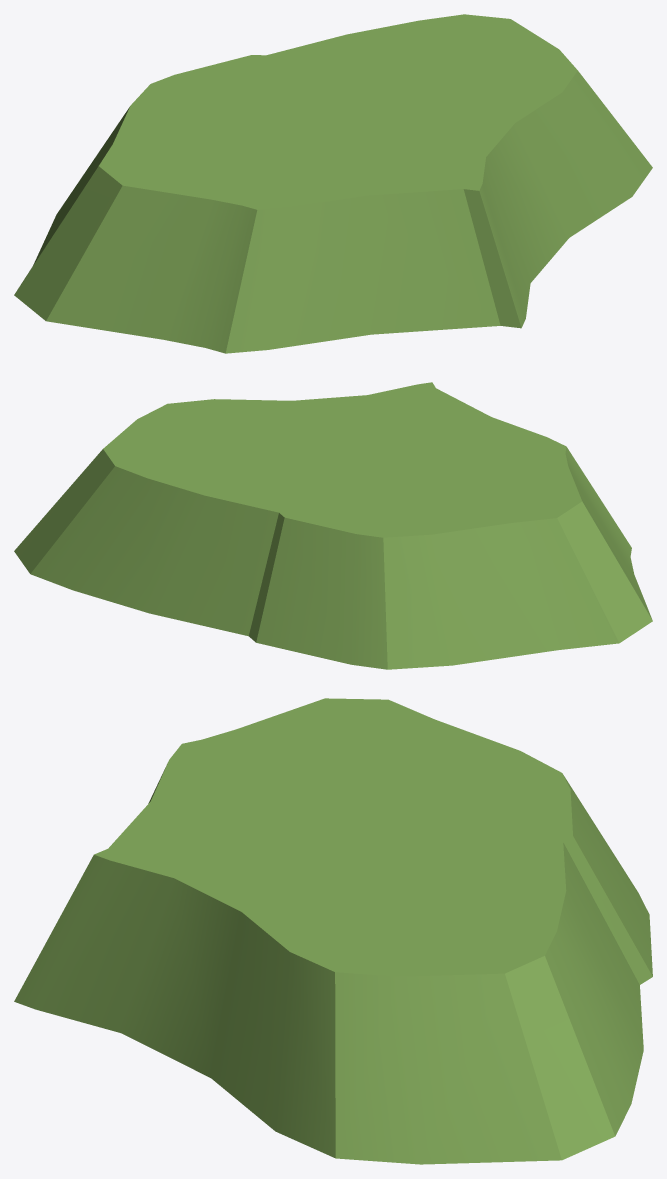
The model's file is Terrain_Mound_Grass_01.fbx.
3 views of the same model, one above another, from view 1: azimuth 30°, elevation 25°; view 2: azimuth 150°, elevation 25°; view 3: azimuth 270°, elevation 25° (orthographic). The views are drawn at different scales.
Parts seen in each view (by area): view 1: Terrain_Mound_Grass_01; view 2: Terrain_Mound_Grass_01; view 3: Terrain_Mound_Grass_01.
Part boxes in pixels (bbox=[...]): Terrain_Mound_Grass_01: bbox=[14, 14, 652, 353]; Terrain_Mound_Grass_01: bbox=[14, 382, 652, 669]; Terrain_Mound_Grass_01: bbox=[14, 698, 652, 1164].
Bounding box in the file's own units: 918 × 163 × 668.
